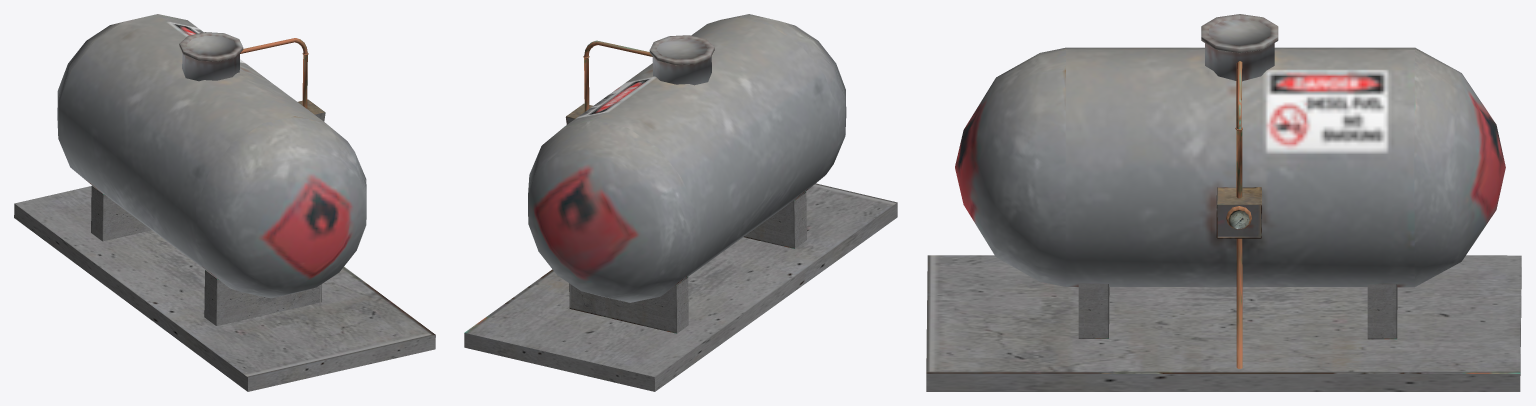
File: Oiltank600_Model.fbx
3 renders of one model, left to right at view 1: azimuth 30°, elevation 25°; view 2: azimuth 150°, elevation 25°; view 3: azimuth 270°, elevation 25°, orthographic. The views are drawn at different scales.
Parts seen in each view (by area): view 1: Oiltank600_Model; view 2: Oiltank600_Model; view 3: Oiltank600_Model.
Part boxes in pixels (<box>): Oiltank600_Model: <box>14,14,435,391</box>; Oiltank600_Model: <box>464,14,897,391</box>; Oiltank600_Model: <box>926,14,1521,391</box>.
Size of the model in its own units: 675 by 797 by 1435.
1 material, 1 textured.
